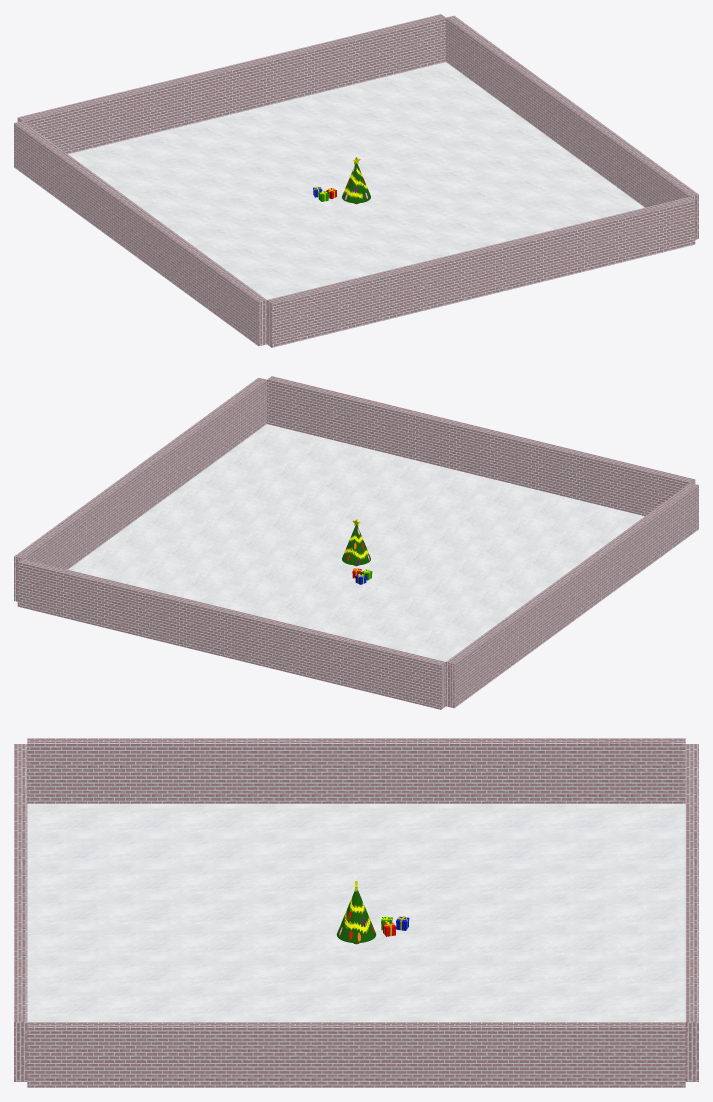
File: map.glb
3 renders of one model, top to bottom at view 1: azimuth 30°, elevation 25°; view 2: azimuth 150°, elevation 25°; view 3: azimuth 270°, elevation 25°, orthographic. The views are drawn at different scales.
Parts seen in each view (by area): view 1: Plane, Cube.003, Cube.002, Cube, Cube.001, Cone; view 2: Plane, Cube.002, Cube.003, Cube, Cube.001, Cone; view 3: Plane, Cube, Cube.001, Cube.002, Cube.003, Cone.
Boxes of the visible parts, x1,y1,x2,y2 form: Plane: (68,62,644,299); Cube.003: (267,196,695,347); Cube.002: (17,14,445,153); Cube: (14,121,266,346); Cube.001: (446,15,698,239); Cone: (342,163,370,203); Plane: (68,424,644,661); Cube.002: (17,558,445,709); Cube.003: (267,376,695,515); Cube: (446,483,698,708); Cube.001: (14,377,266,601); Cone: (342,524,370,565); Plane: (27,803,685,1022); Cube: (27,738,685,803); Cube.001: (27,1022,685,1087); Cube.002: (685,744,698,1081); Cube.003: (14,744,27,1081); Cone: (336,890,376,942).
Size of the model in its own units: 104 by 10.36 by 104.
11 materials, 3 textured.
